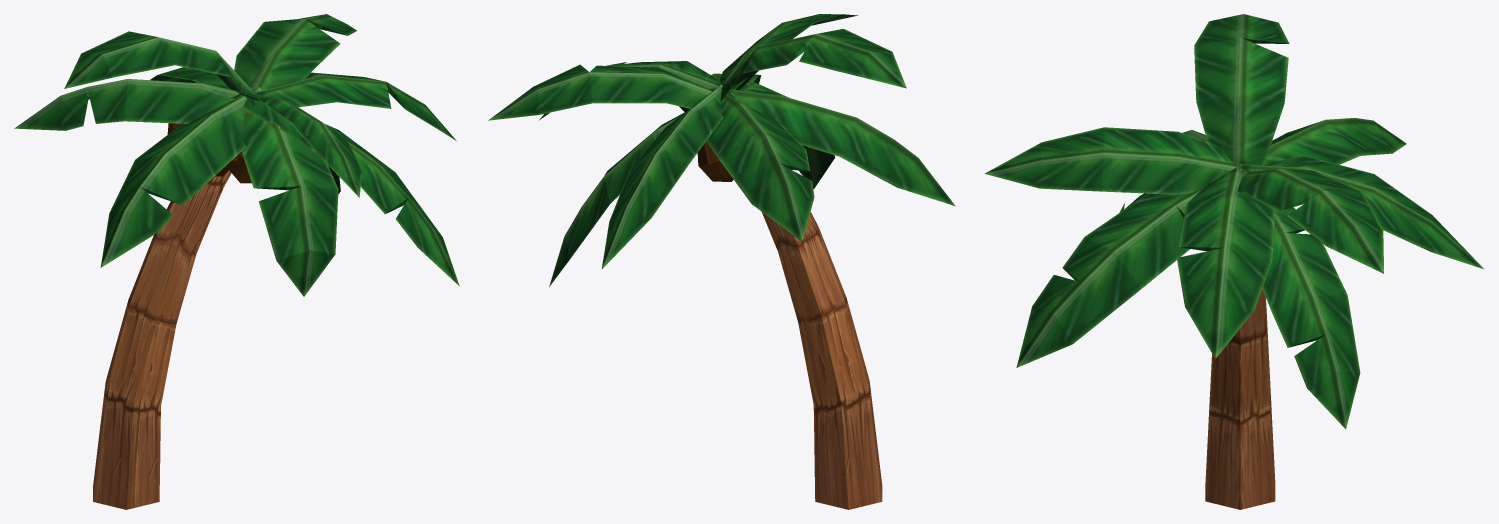
Rendered from palm.obj.
3 renders of one model, left to right at view 1: azimuth 30°, elevation 25°; view 2: azimuth 150°, elevation 25°; view 3: azimuth 270°, elevation 25°, orthographic. The views are drawn at different scales.
Parts seen in each view (by area): view 1: Cylinder02; view 2: Cylinder02; view 3: Cylinder02.
Part boxes in pixels (x1,y1,x2,y2): Cylinder02: (14, 14, 459, 509); Cylinder02: (488, 14, 955, 509); Cylinder02: (984, 14, 1483, 509).
Bounding box in the file's own units: 112 × 125 × 120.
